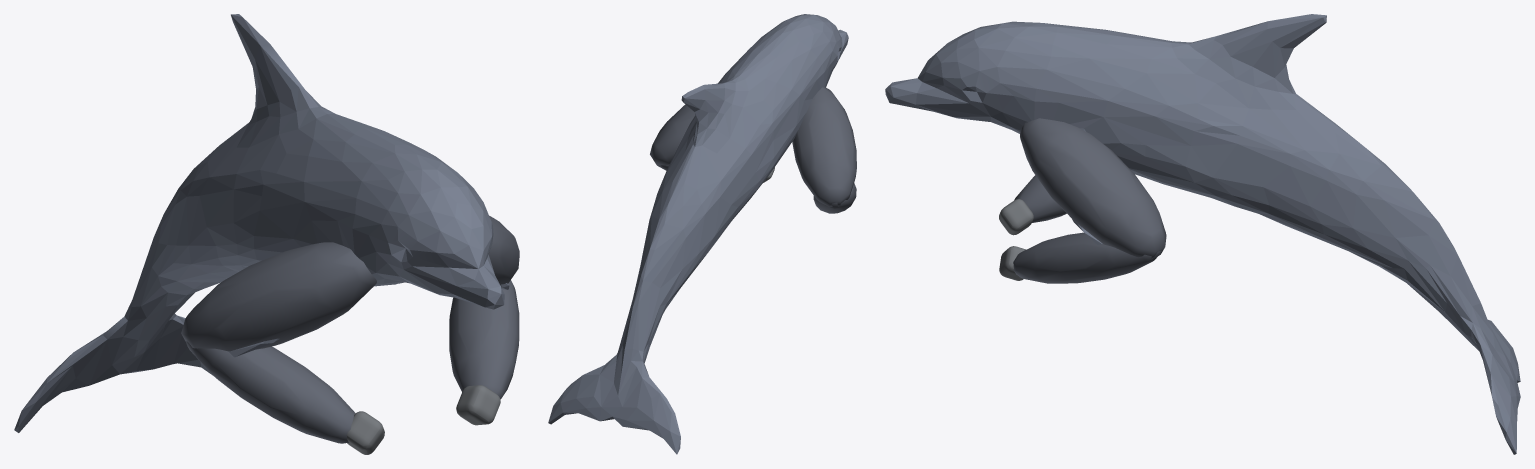
The model's file is dolphin3.glb.
3 renders of one model, left to right at view 1: azimuth 30°, elevation 25°; view 2: azimuth 150°, elevation 25°; view 3: azimuth 270°, elevation 25°, orthographic. The views are drawn at different scales.
Parts seen in each view (by area): view 1: fistL.001; view 2: fistL.001; view 3: fistL.001.
Boxes of the visible parts, x1,y1,x2,y2 form: fistL.001: (14, 14, 519, 454); fistL.001: (548, 14, 856, 454); fistL.001: (885, 14, 1520, 454).
Bounding box in the file's own units: 1.4 × 2.01 × 2.89.
